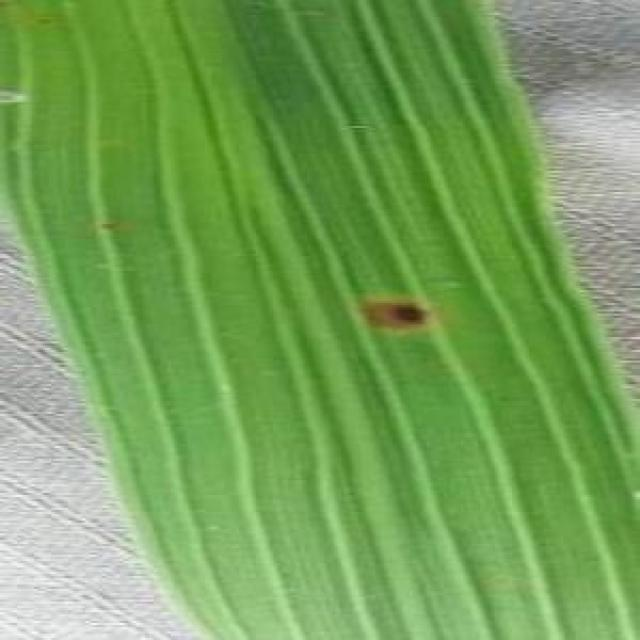Brown_Spot: (360, 298, 431, 334)
